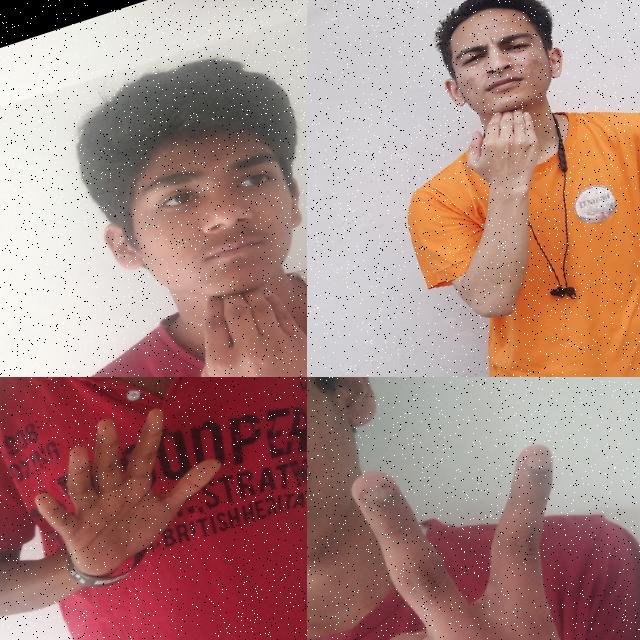Chin Flick: (37, 22, 307, 377), (409, 0, 616, 215)
Moutza: (12, 384, 250, 604)
Reversed Victory: (313, 409, 640, 640)
